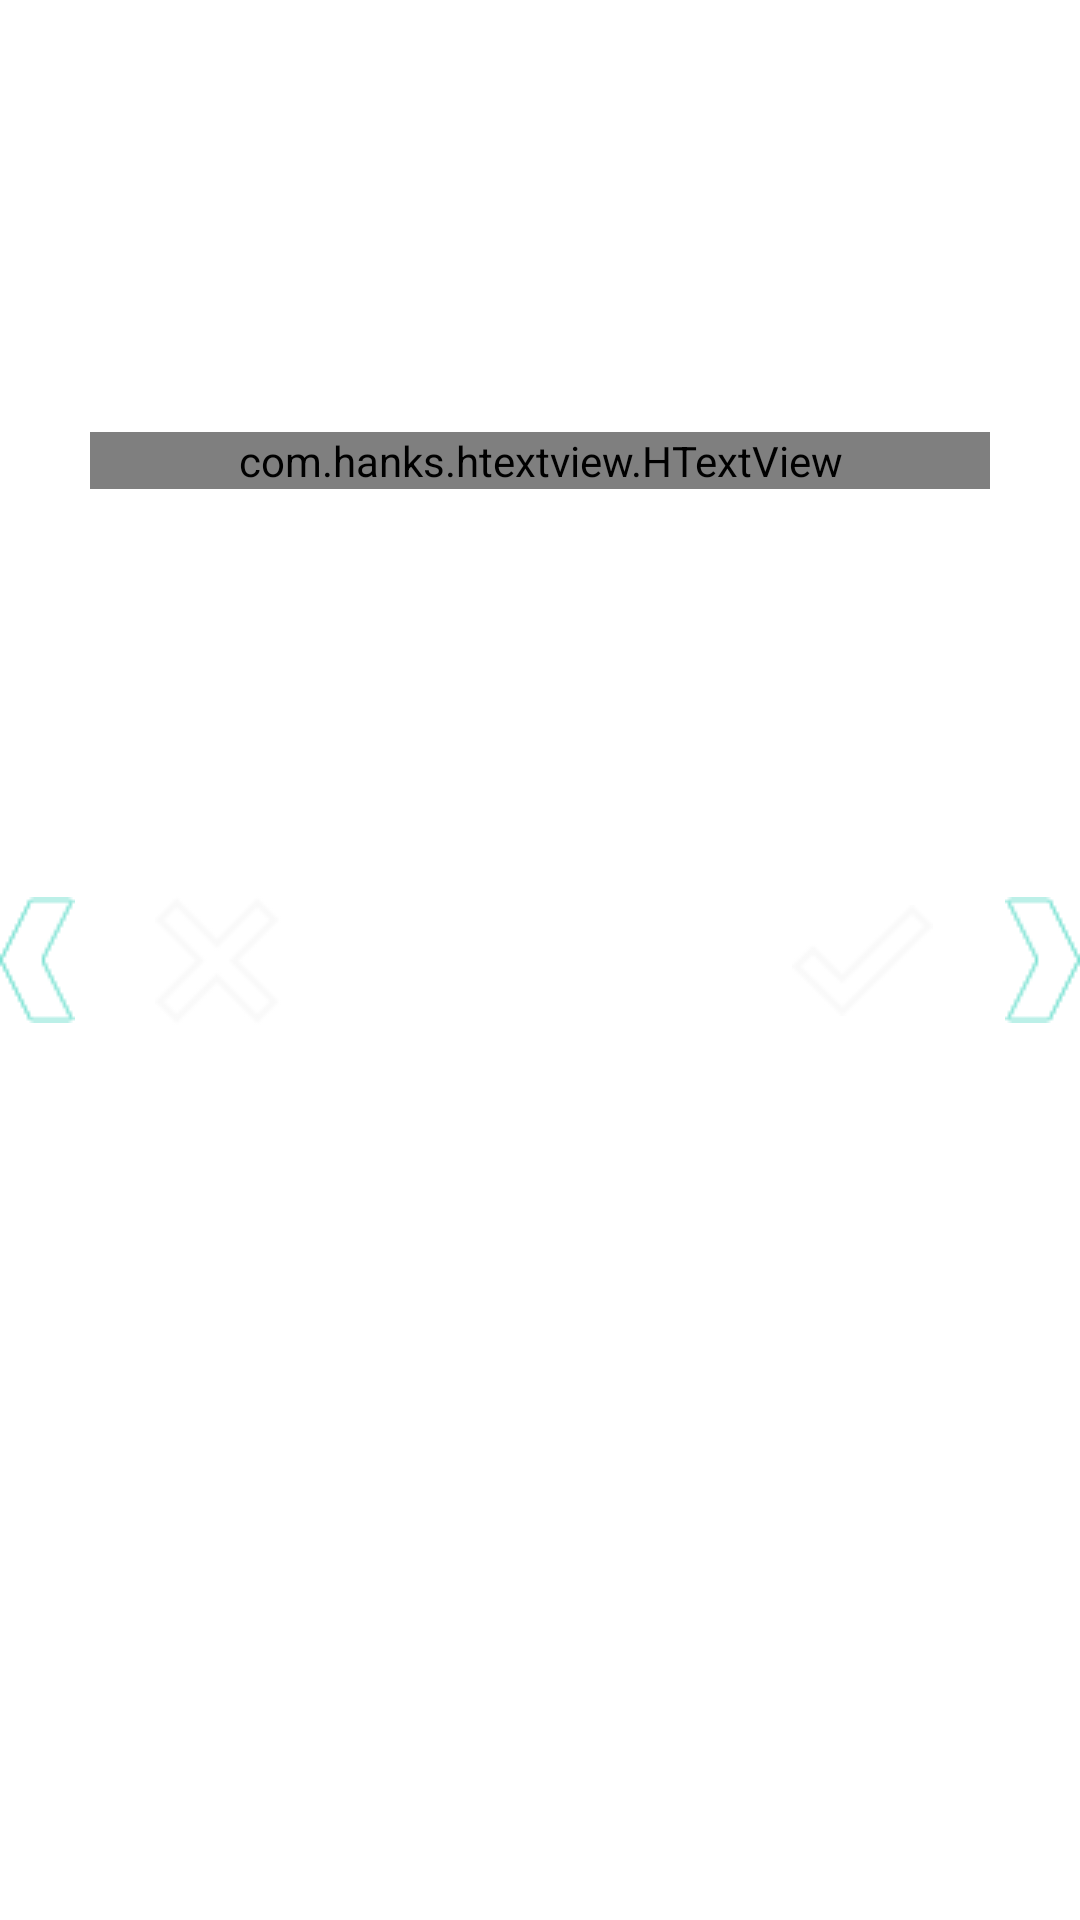

Where icons sit on this 1080w x 1920h app screen, as Rect(x1, y1, x2, y2):
leftchevron: Rect(0, 897, 75, 1023)
rightchevron: Rect(1005, 897, 1080, 1023)
